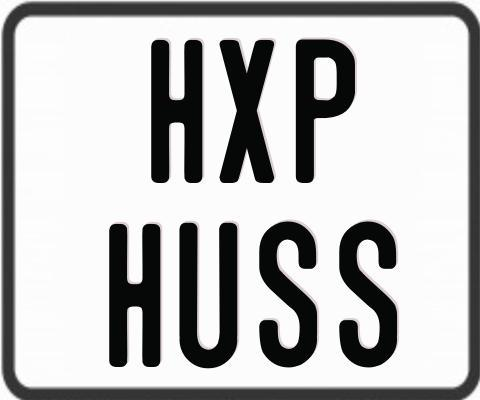H: (106, 222, 163, 371), (149, 37, 205, 181)
P: (295, 38, 356, 187)
S: (336, 220, 398, 369), (256, 221, 317, 367)
U: (178, 221, 239, 366)
X: (219, 39, 274, 182)
